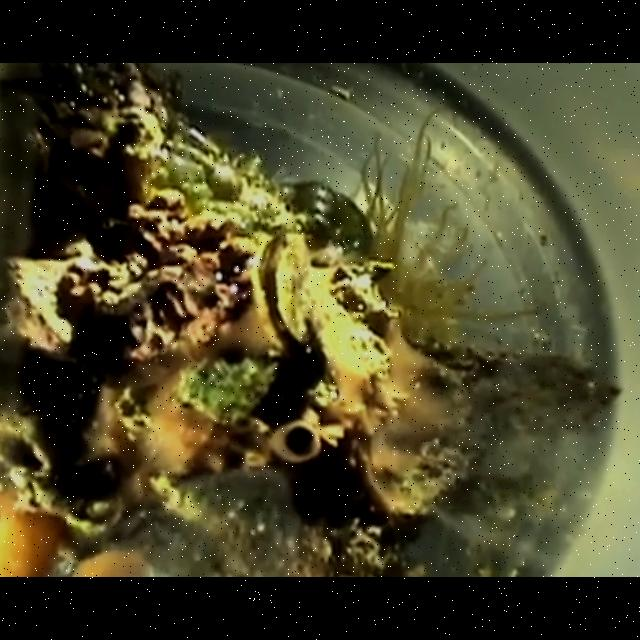Oyster-Open: (249, 231, 311, 355)
